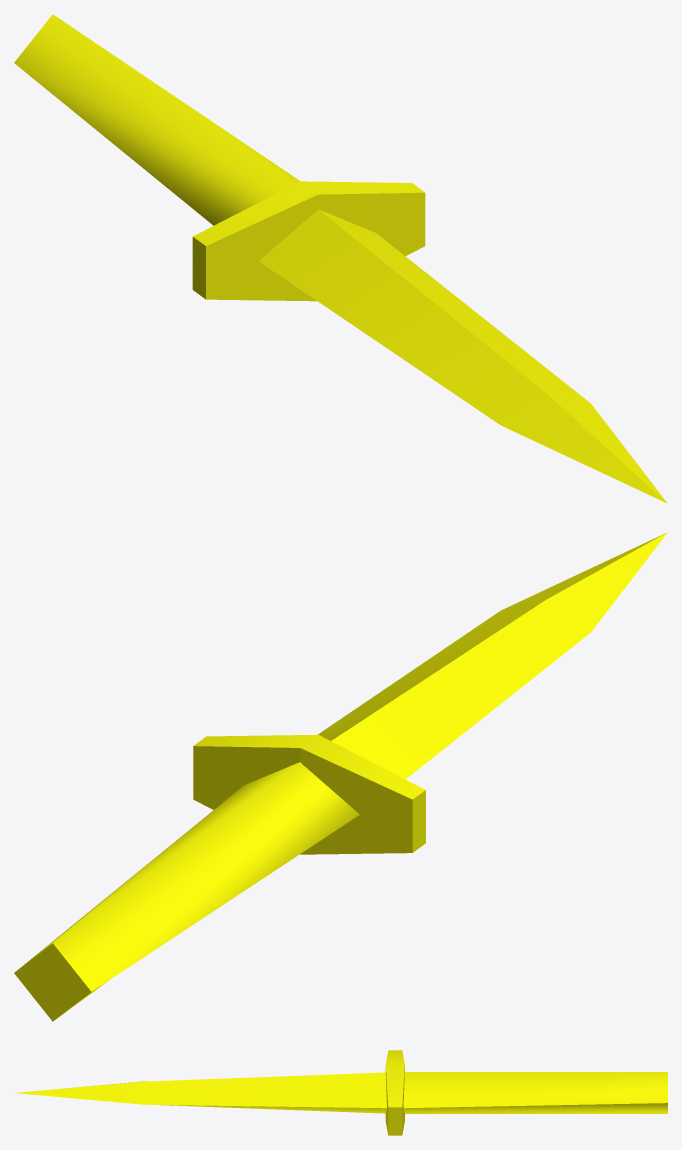
The model's file is weapon_knife_british.glb.
3 views of the same model, one above another, from view 1: azimuth 30°, elevation 25°; view 2: azimuth 150°, elevation 25°; view 3: azimuth 270°, elevation 25° (orthographic). The views are drawn at different scales.
Visible parts, largest first — view 1: weapon_knife_british; view 2: weapon_knife_british; view 3: weapon_knife_british.
Part boxes in pixels (x1,y1,x2,y2): weapon_knife_british: (14,14,667,503); weapon_knife_british: (14,532,667,1021); weapon_knife_british: (15,1050,667,1135).
Bounding box in the file's own units: 0.1815 × 0.0843 × 0.8815.
Materials: 1 (1 with a texture image).
